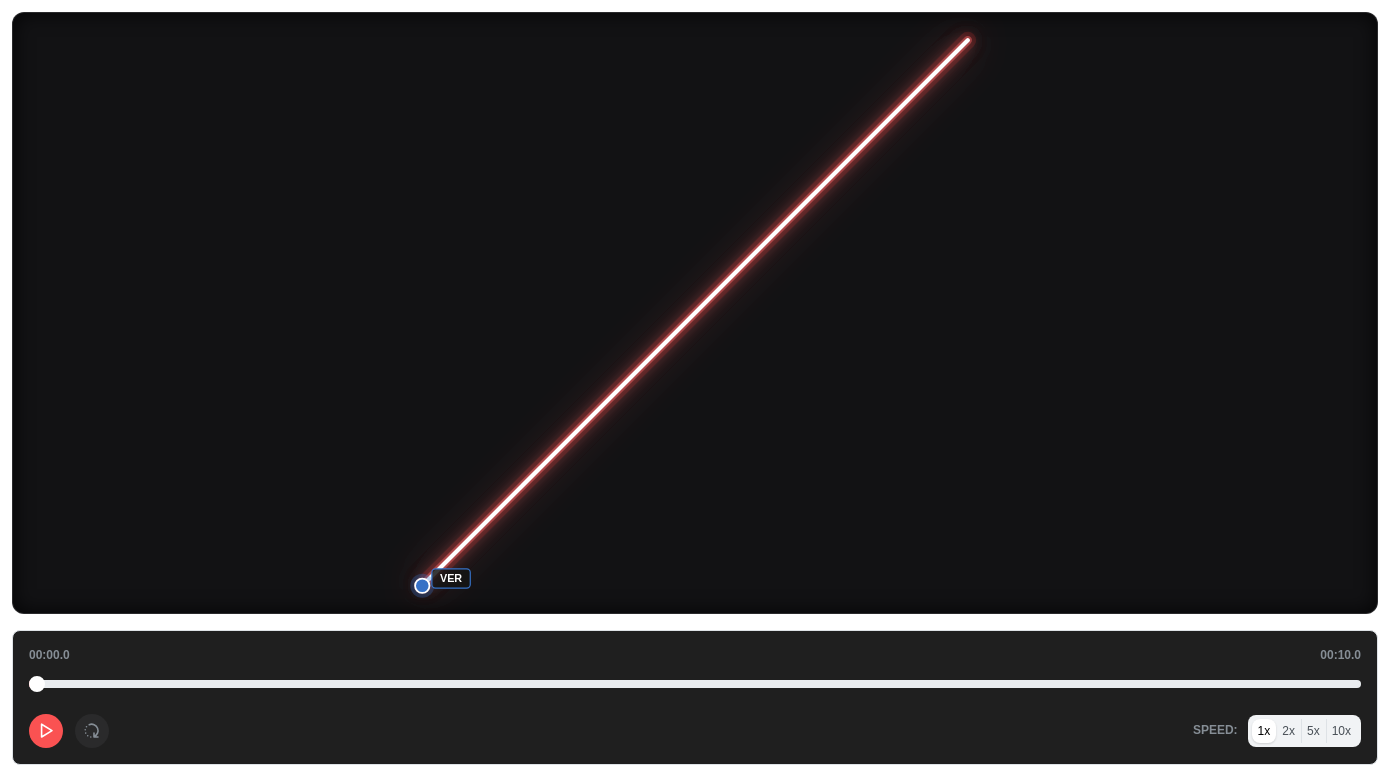
Scenario: VirtualReplayContainer › toggles play/pause when play button is clicked
Click the button named "Play": (46, 731) [29,714,63,748]
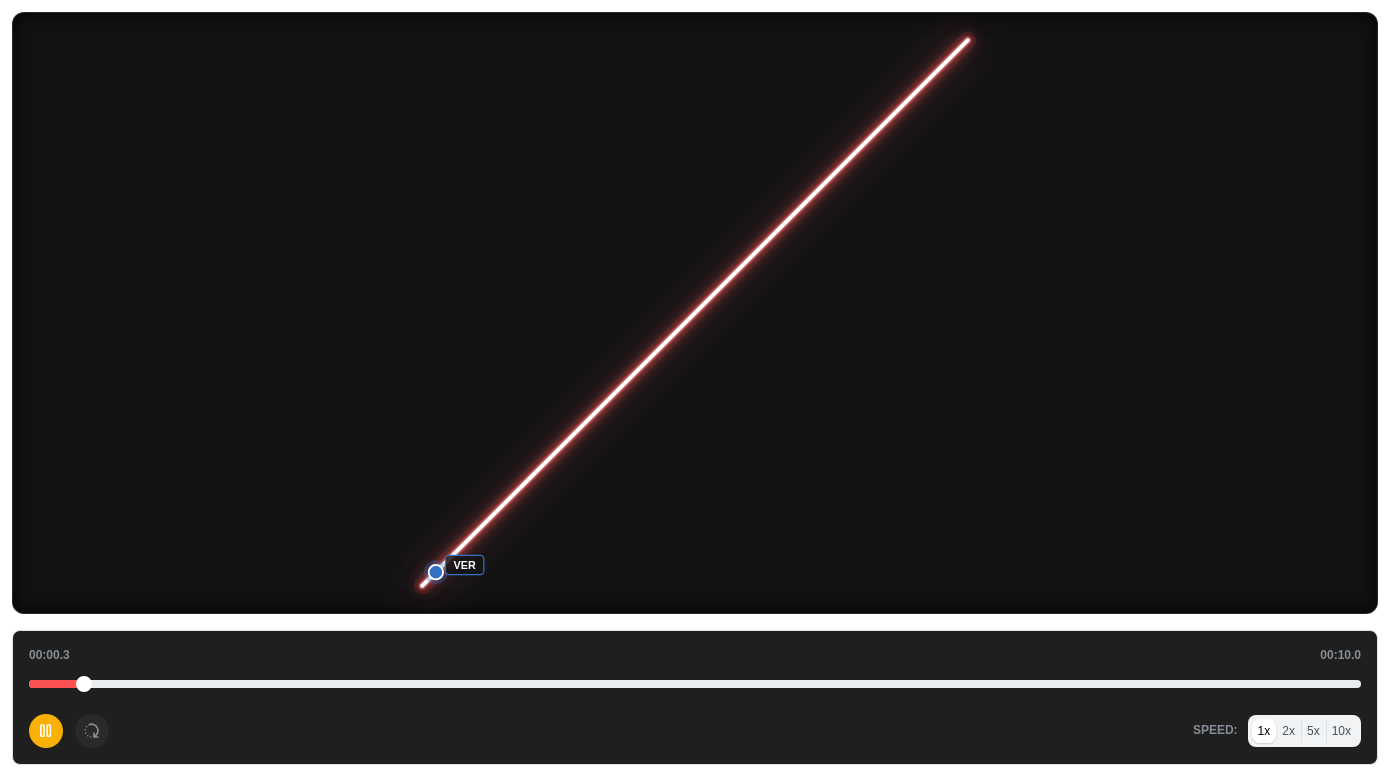
Expected: the button named "Pause" is shown, [29,714,63,748]
